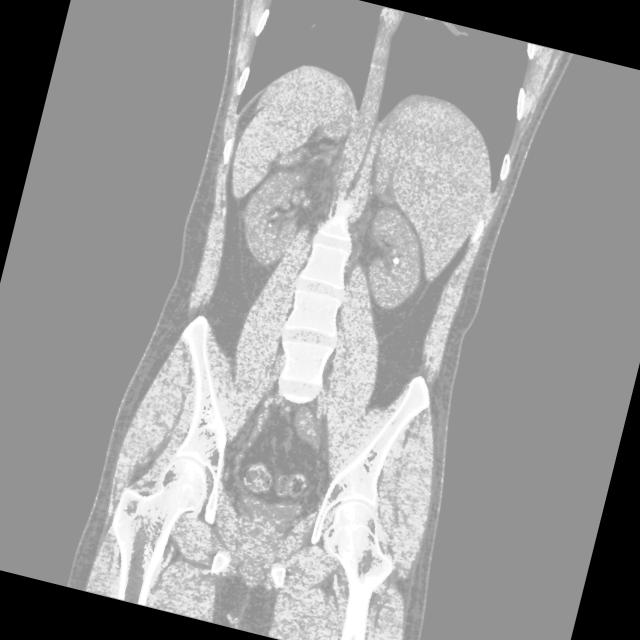STONE: (198, 148, 450, 335)
